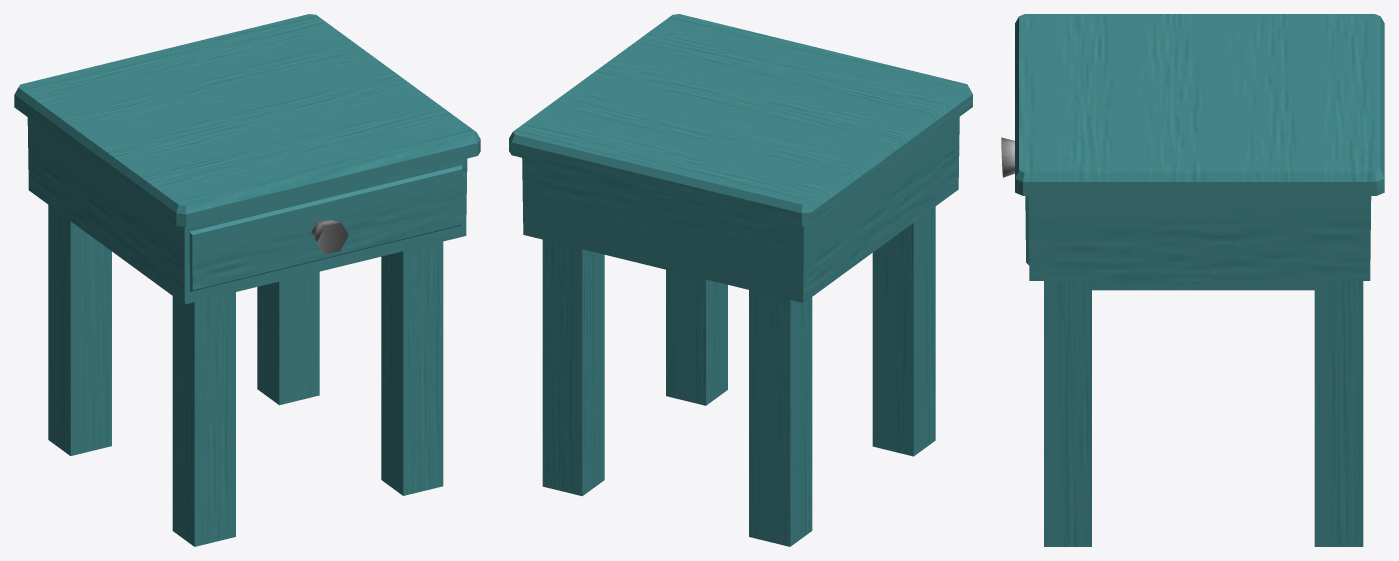
File: Basic_Endtable_E.FBX
3 views of the same model, side by side, from view 1: azimuth 30°, elevation 25°; view 2: azimuth 150°, elevation 25°; view 3: azimuth 270°, elevation 25° (orthographic). The views are drawn at different scales.
Parts seen in each view (by area): view 1: End Table; view 2: End Table; view 3: End Table.
Boxes of the visible parts, bbox=[...] form: End Table: bbox=[14, 14, 480, 546]; End Table: bbox=[509, 14, 972, 546]; End Table: bbox=[1001, 14, 1384, 546].
Size of the model in its own units: 88.66 by 98.76 by 88.61.
